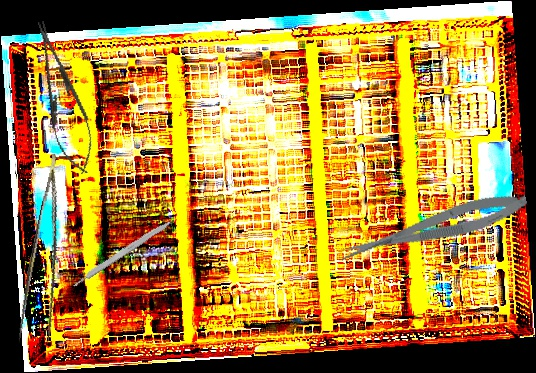Micro Scissor: (335, 186, 531, 267)
Needle Holder: (23, 16, 103, 179)
Scalpel Handle: (70, 215, 176, 289)
Tissue Forceps: (12, 153, 87, 351)
